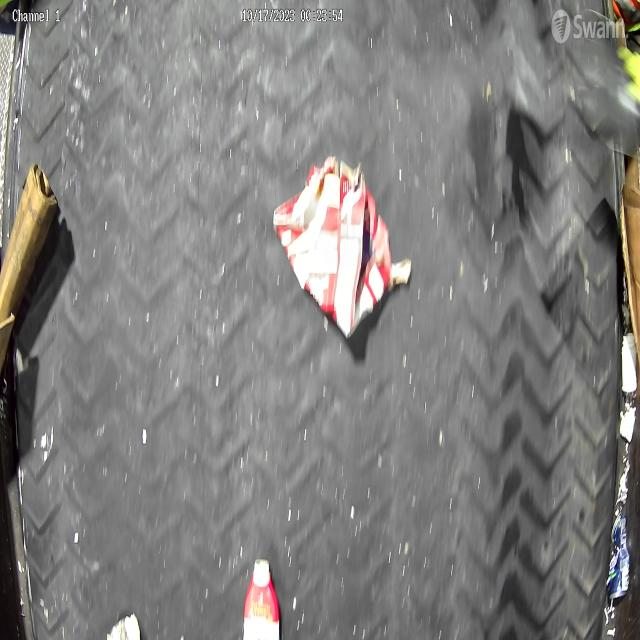can: (606, 514, 630, 602)
non_white_jug: (242, 558, 280, 640)
